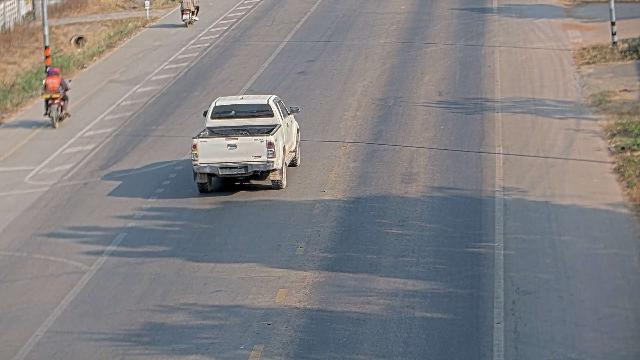motorcycle: (41, 77, 69, 128), (177, 0, 198, 27)
pickup-truck: (190, 93, 301, 193)
